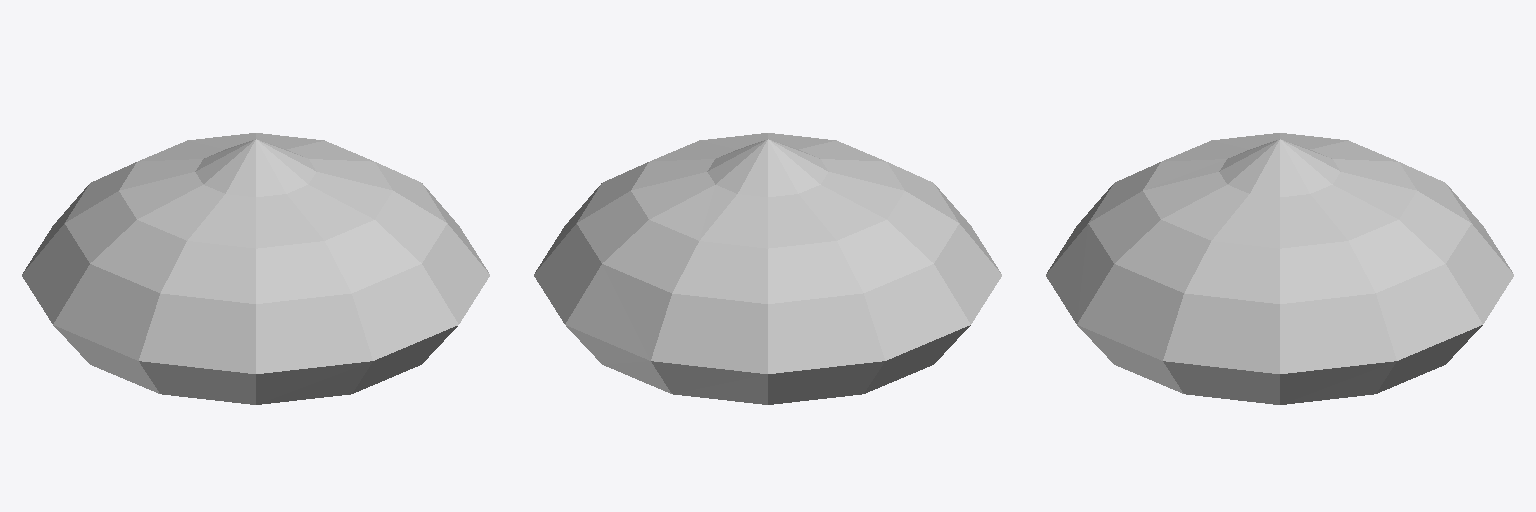
The model's file is SharpClaw Landmine.obj.
3 views of the same model, side by side, from view 1: azimuth 30°, elevation 25°; view 2: azimuth 150°, elevation 25°; view 3: azimuth 270°, elevation 25° (orthographic).
Visible parts, largest first — view 1: MODELS_bin_066:poly000; view 2: MODELS_bin_066:poly000; view 3: MODELS_bin_066:poly000.
Boxes of the visible parts, box(x1,y1,x2,y2) form: MODELS_bin_066:poly000: box(22, 133, 489, 404); MODELS_bin_066:poly000: box(534, 133, 1001, 404); MODELS_bin_066:poly000: box(1046, 133, 1513, 404).
Size of the model in its own units: 0.5086 by 0.2797 by 0.5086.